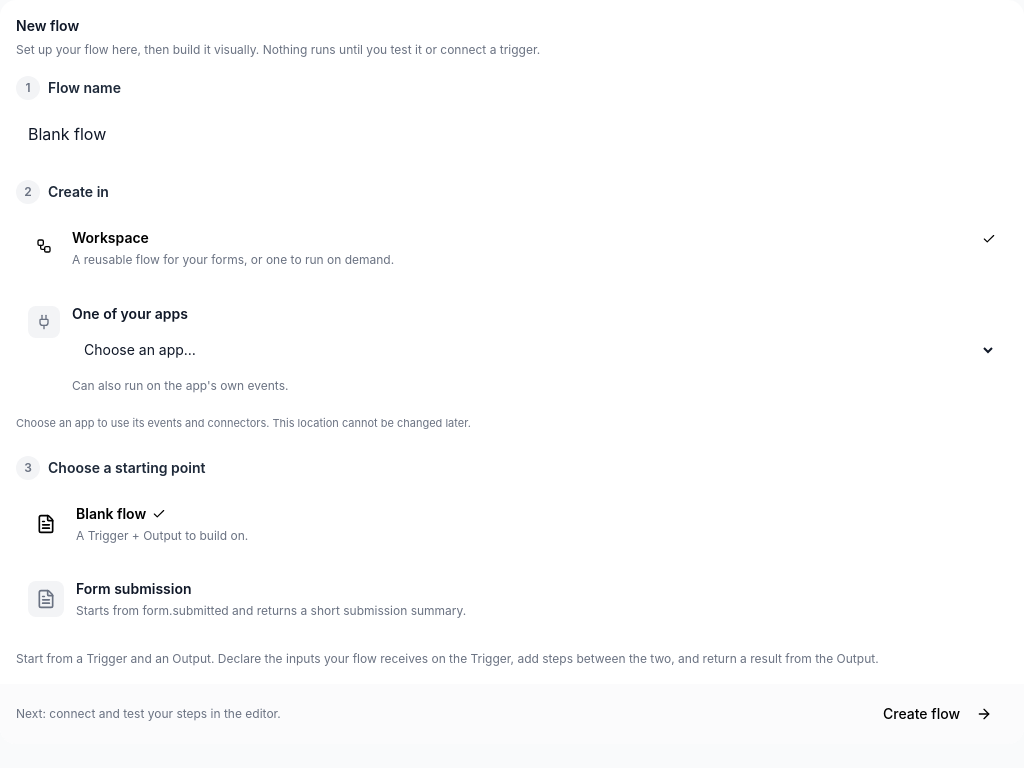
Test: where a new automation is created › offers one list of the apps when there are many, beside the workspace
Later steps or results of the test are not shown.
Select "App 7" in the dropdown named "Create in an app". click: {"x": 534, "y": 350}
box: x1=72 y1=330 x2=996 y2=370
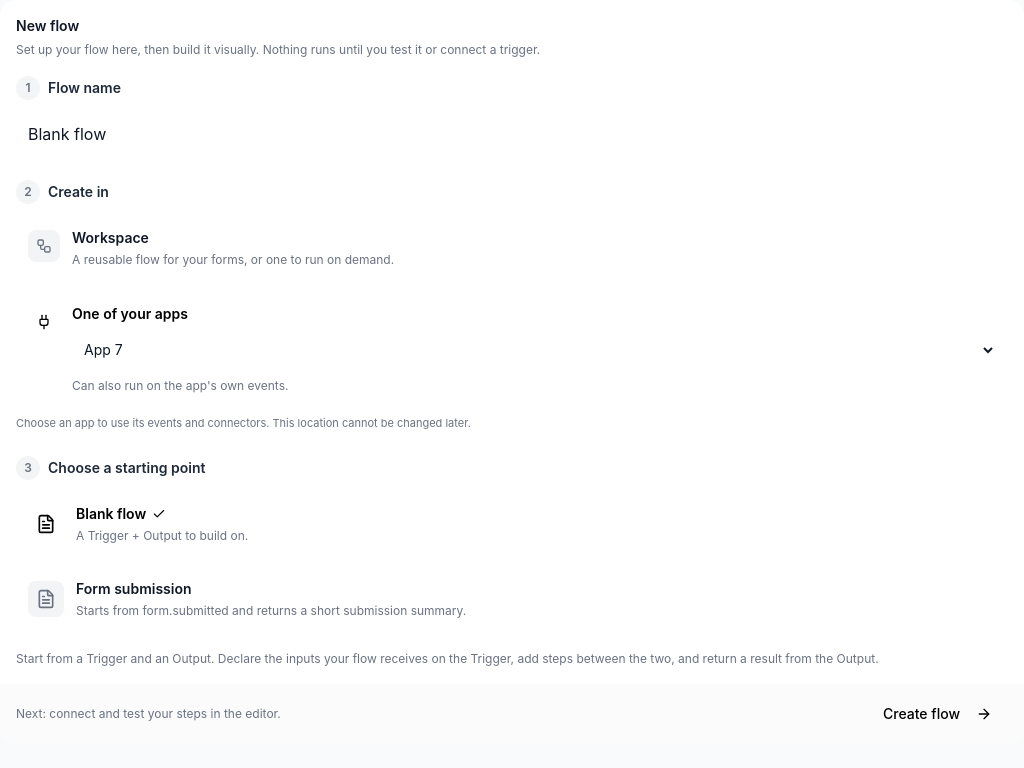
Now the button that starts with "Workspace" is not pressed, box x1=16 y1=216 x2=1008 y2=282
